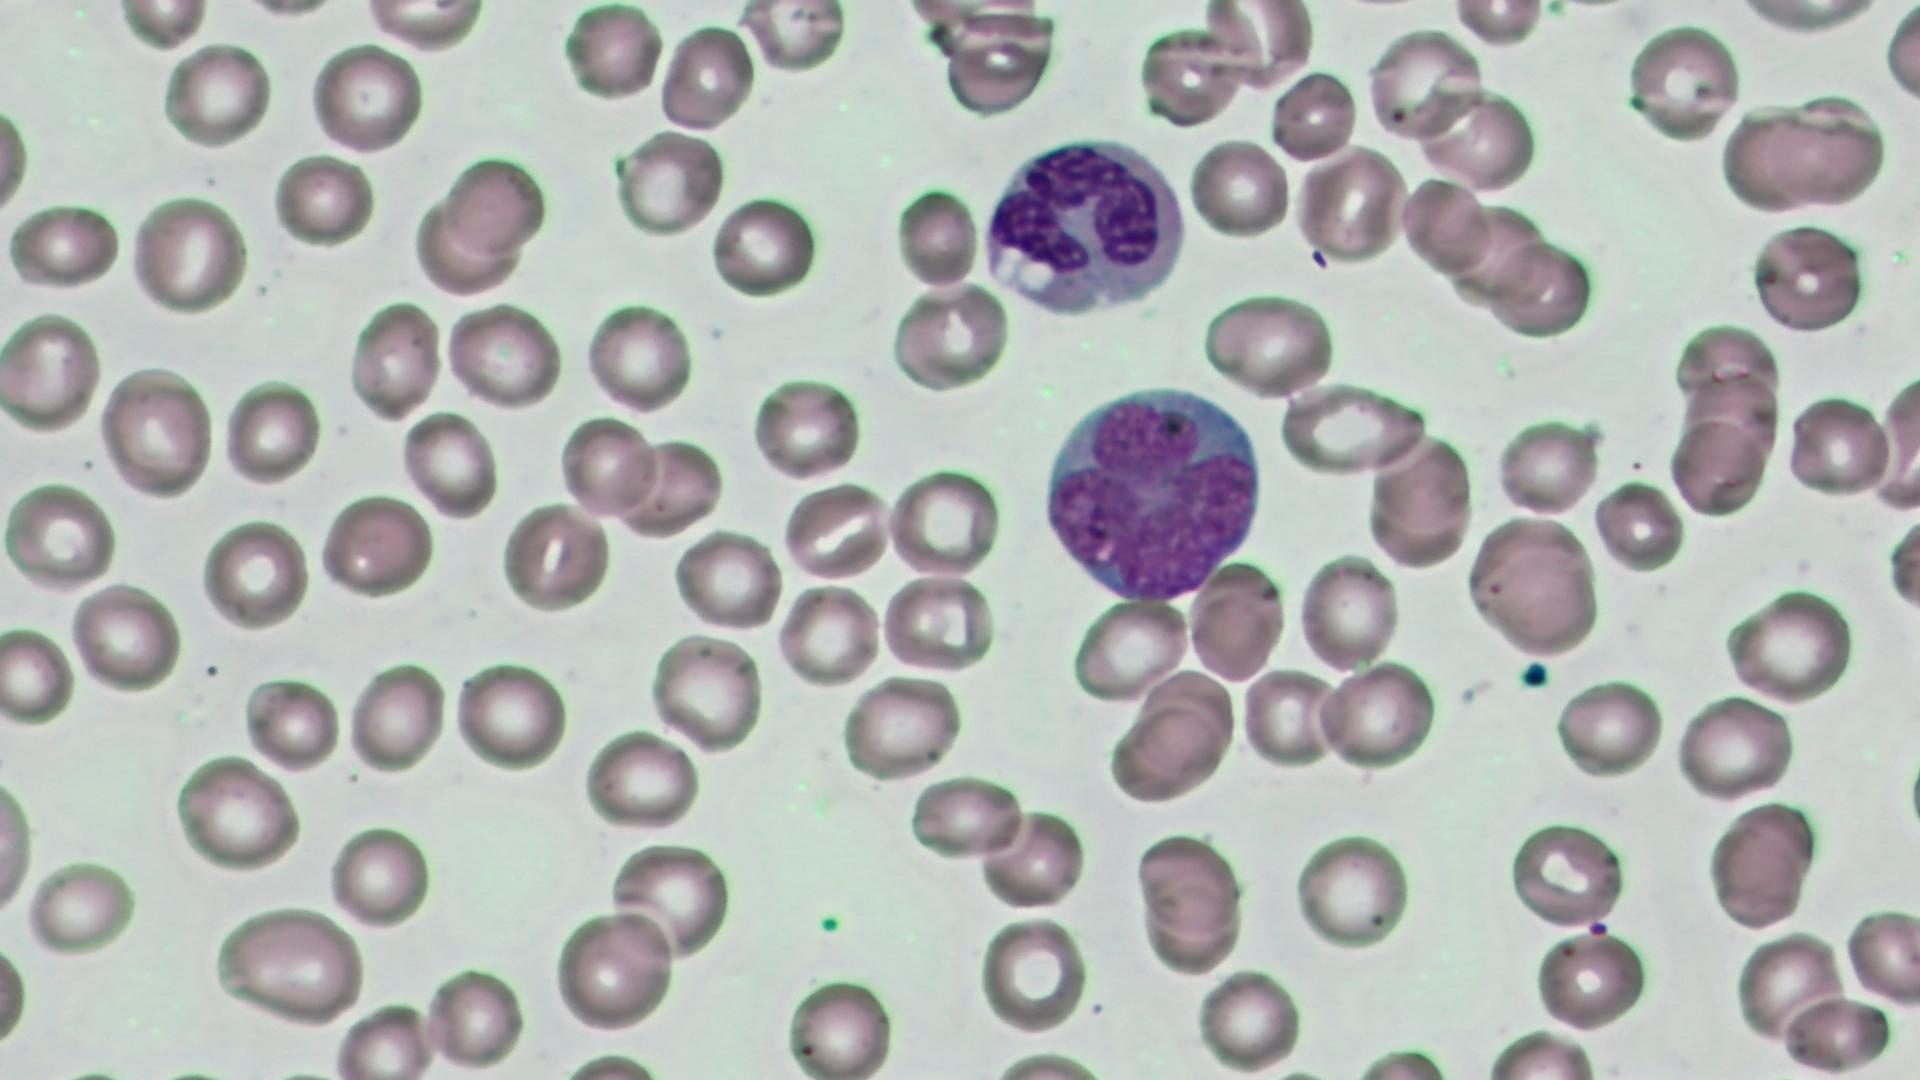Platelets: (1900, 759, 1920, 836), (1517, 659, 1552, 689)
RBC: (1464, 513, 1600, 660), (1718, 97, 1888, 214), (212, 901, 366, 1027), (607, 836, 738, 967), (96, 360, 216, 502), (550, 904, 677, 1037), (1623, 16, 1746, 147), (172, 752, 304, 874), (1719, 586, 1854, 704), (126, 190, 249, 318), (1198, 288, 1336, 399), (1365, 433, 1476, 569), (1292, 827, 1412, 952), (1278, 382, 1430, 478), (647, 630, 764, 754), (1707, 800, 1815, 932), (451, 656, 570, 774), (977, 913, 1090, 1037), (1415, 83, 1540, 195), (1364, 25, 1480, 145), (1508, 816, 1628, 932), (1731, 930, 1848, 1048), (1316, 657, 1437, 771), (886, 461, 1001, 580), (1294, 550, 1404, 674), (1748, 220, 1868, 333), (315, 489, 436, 601), (1672, 693, 1798, 800), (1102, 704, 1233, 806), (889, 280, 1007, 393), (4, 478, 117, 596), (1294, 143, 1406, 262), (198, 515, 310, 634), (310, 41, 424, 157), (1070, 594, 1190, 704), (160, 38, 273, 154), (499, 499, 611, 616), (443, 299, 561, 410), (842, 676, 962, 784), (581, 298, 694, 412), (69, 581, 181, 696), (1532, 926, 1652, 1033), (614, 127, 727, 238), (324, 820, 434, 934), (584, 726, 699, 835), (778, 974, 900, 1076), (2, 309, 103, 432), (346, 657, 448, 778), (748, 373, 863, 480), (1184, 561, 1283, 685), (1782, 391, 1893, 501), (670, 527, 784, 634), (1194, 964, 1308, 1070), (781, 478, 895, 584), (21, 854, 140, 955), (346, 298, 442, 422), (709, 192, 820, 299), (1186, 132, 1292, 243), (1133, 829, 1243, 935), (776, 580, 882, 690), (398, 407, 499, 522), (424, 960, 527, 1072), (1488, 235, 1596, 341), (1492, 412, 1600, 518), (879, 573, 994, 672), (975, 806, 1084, 910), (220, 376, 320, 489), (1556, 676, 1664, 780), (656, 20, 753, 134), (444, 152, 550, 255), (5, 199, 121, 293), (560, 1, 663, 106), (411, 198, 519, 298), (624, 428, 725, 534), (1198, 0, 1318, 88), (1665, 415, 1767, 518), (272, 153, 376, 254), (908, 773, 1026, 862), (556, 414, 656, 519), (242, 673, 342, 776), (1240, 667, 1339, 770), (892, 182, 980, 291), (1401, 172, 1491, 275), (1776, 992, 1893, 1070), (1593, 476, 1686, 573), (1269, 68, 1360, 166), (737, 2, 847, 75), (330, 1003, 437, 1078), (1842, 903, 1917, 1010), (0, 622, 73, 728), (0, 758, 37, 931), (361, 0, 486, 51), (0, 88, 33, 235), (1880, 0, 1920, 119), (1445, 0, 1548, 46), (1884, 502, 1920, 622)
WBC: (1032, 378, 1272, 604), (974, 130, 1194, 323)
